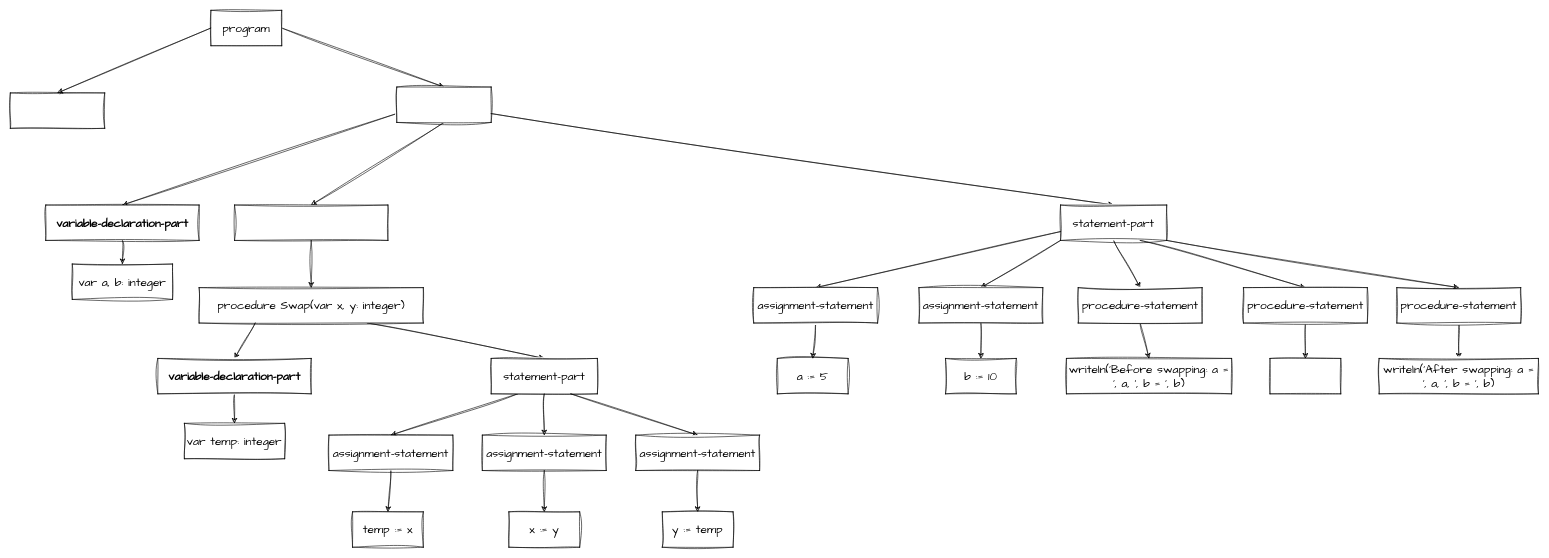
Some shapes in this 1549 by 558 pixel diagram are drawn without their labels. The shapes that lost their labels are listed below. From the top down, each one's centre as x and y in pixels, then its label:
At pixel 57 110: "program-head".
At pixel 443 104: "program-block".
At pixel 311 222: "procedure-and-function-declaration-part".
At pixel 1305 376: "Swap(a, b)".
